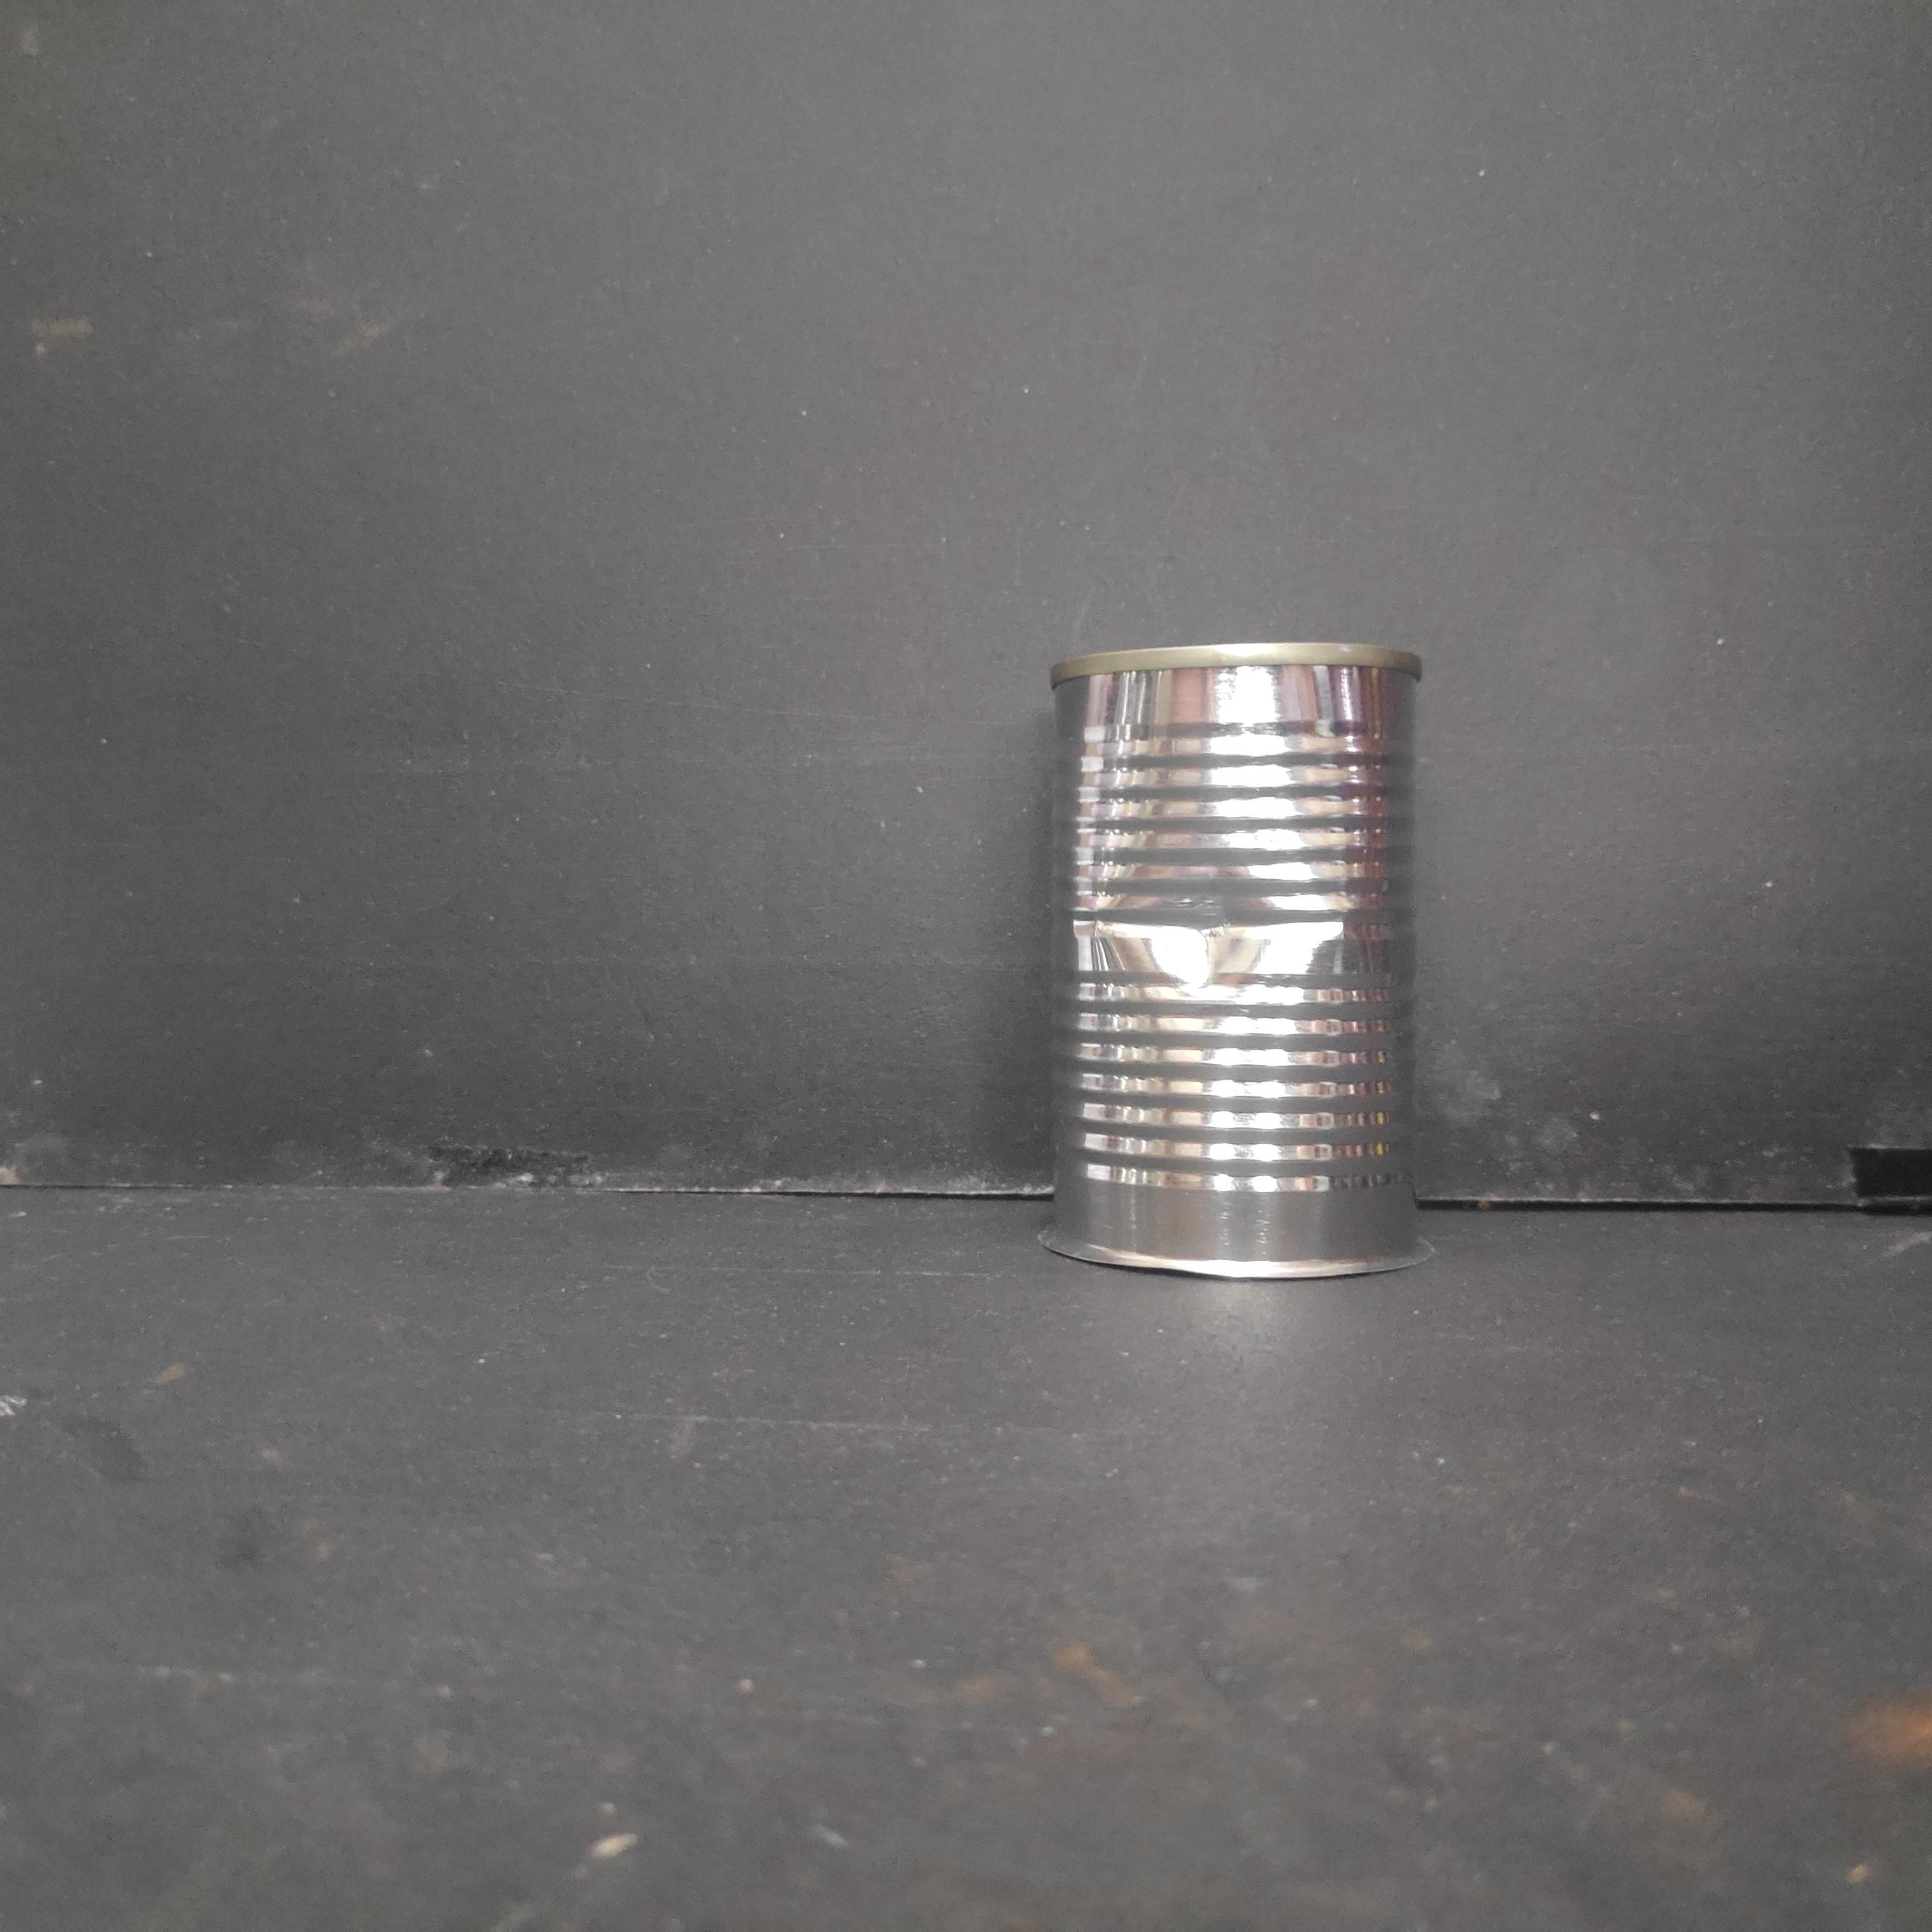Minor Defect: (1033, 626, 1431, 1295)
